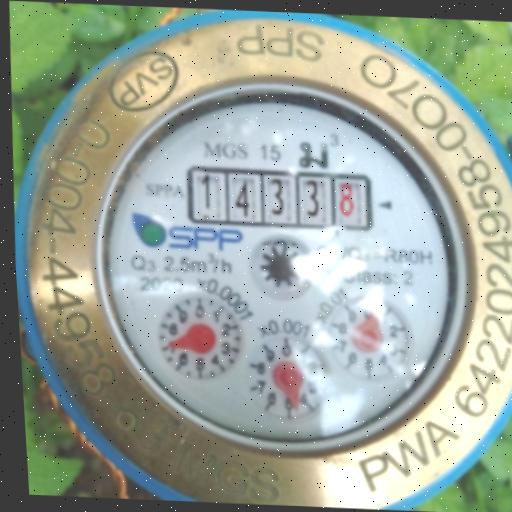1: (195, 177, 220, 218)
3: (266, 180, 290, 223), (303, 182, 325, 223)
4: (230, 178, 253, 220)
8: (338, 183, 362, 224)
border_water_meter_number: (184, 166, 375, 231)
